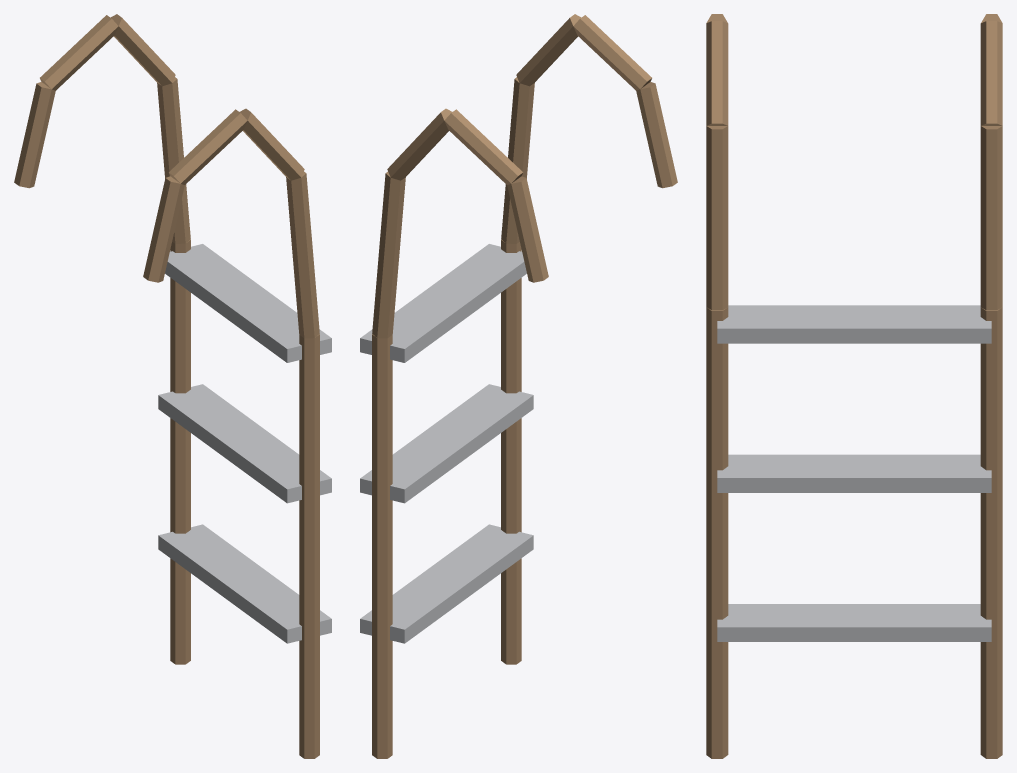
The model's file is pool_ladder.glb.
3 views of the same model, side by side, from view 1: azimuth 30°, elevation 25°; view 2: azimuth 150°, elevation 25°; view 3: azimuth 270°, elevation 25° (orthographic). The views are drawn at different scales.
Size of the model in its own units: 0.4168 by 1.41 by 0.54.
